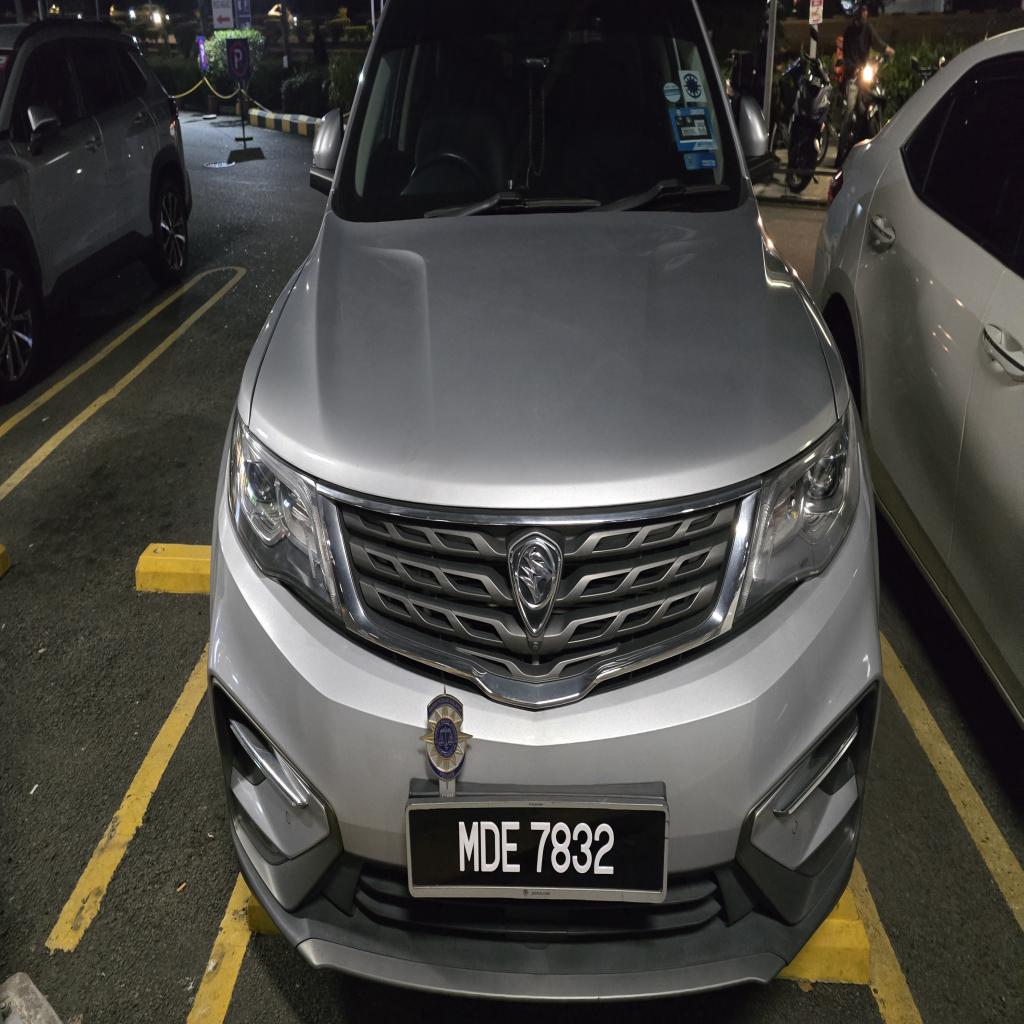car: (208, 0, 881, 999)
car plate: (407, 798, 667, 902)
